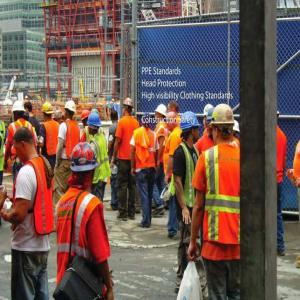blue: (69, 140, 98, 188), (181, 110, 201, 146), (87, 113, 102, 135)
none: (13, 128, 37, 164), (167, 112, 178, 133), (110, 109, 120, 126), (24, 101, 34, 118)
red: (123, 98, 135, 119), (81, 110, 91, 128)
white: (64, 100, 77, 123), (12, 101, 26, 122), (155, 104, 168, 124)
yellow: (212, 102, 237, 147), (42, 101, 55, 121)
